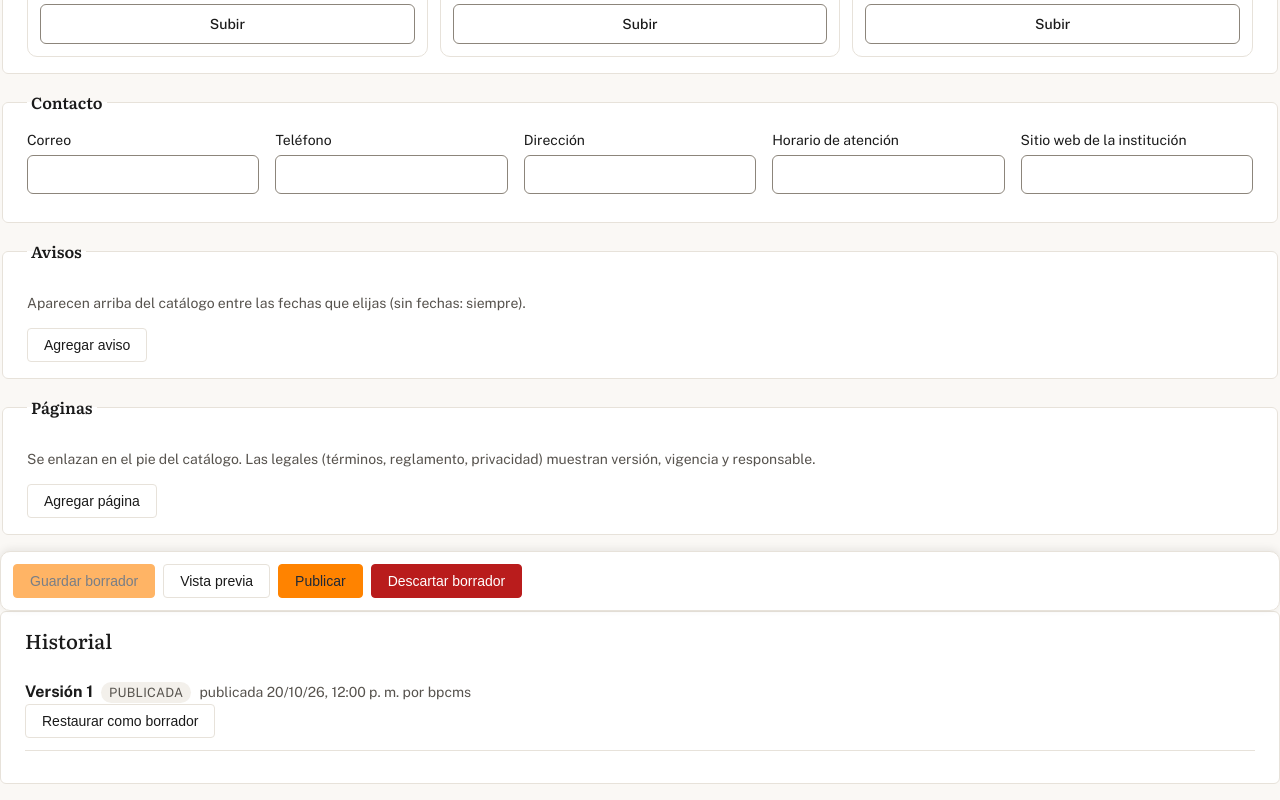
Test case: ContenidoOpac (CMS del panel) › la dirección de una página nueva sigue al título
(page scrolled)
Click the button "Agregar página". click: (92, 501)
box: x1=27 y1=484 x2=157 y2=518
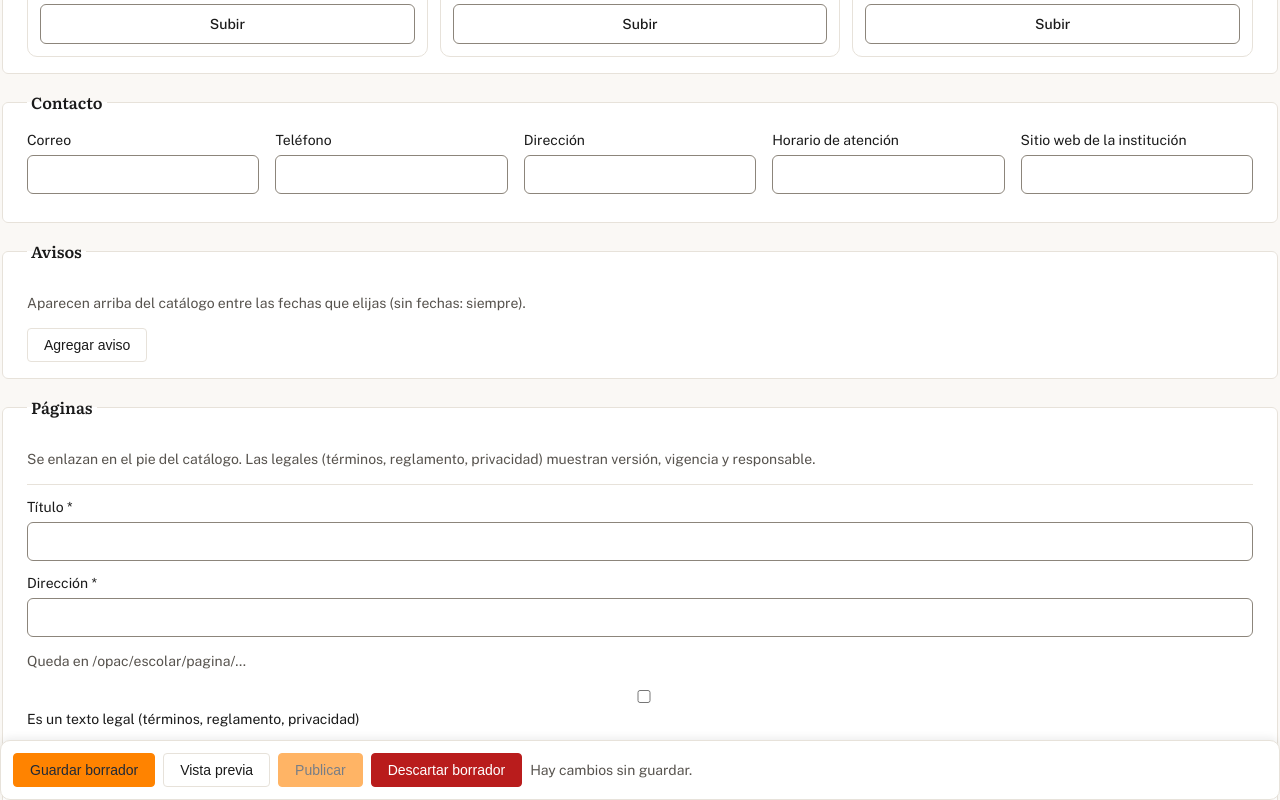
Type "Reglamento de Préstamos" into the field labelled "Título *". click: (640, 542)
box: x1=27 y1=522 x2=1253 y2=561
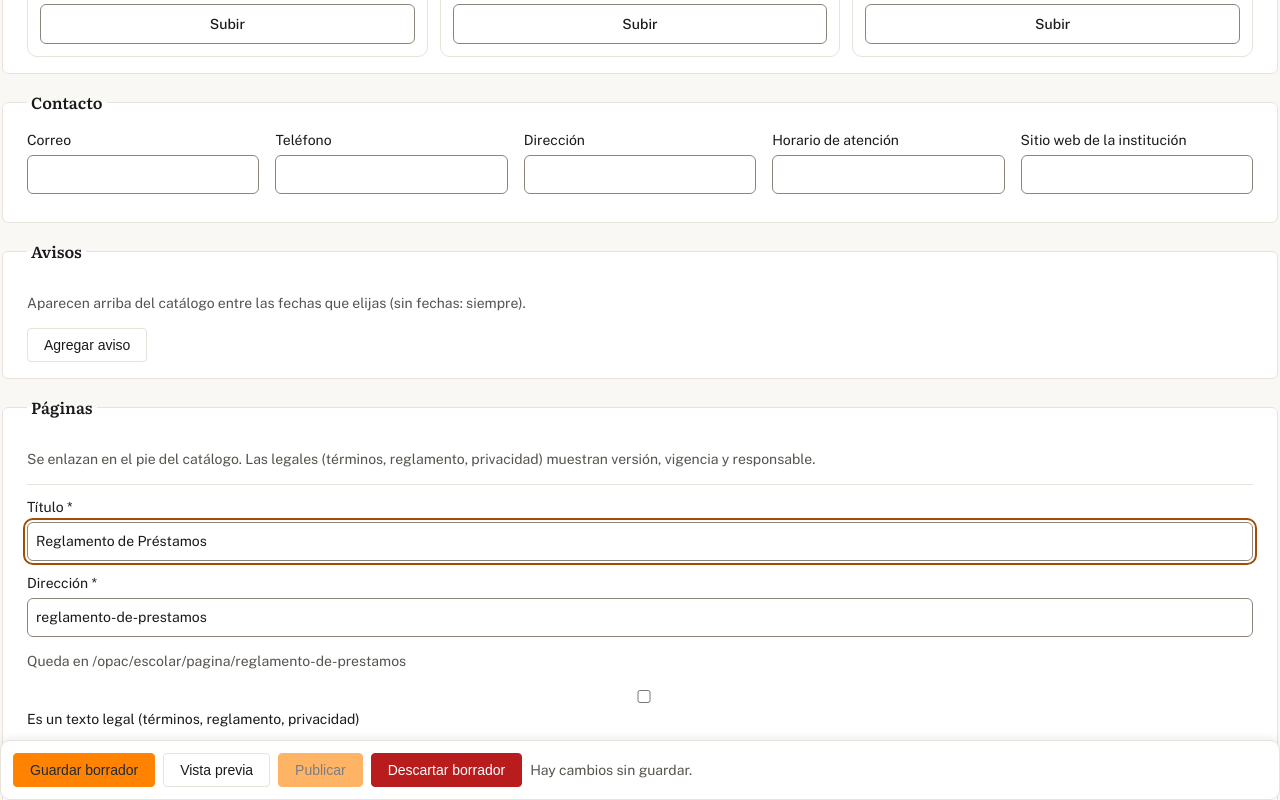
Expected: the field labelled "Dirección *" holds "reglamento-de-prestamos", x1=27 y1=598 x2=1253 y2=637
